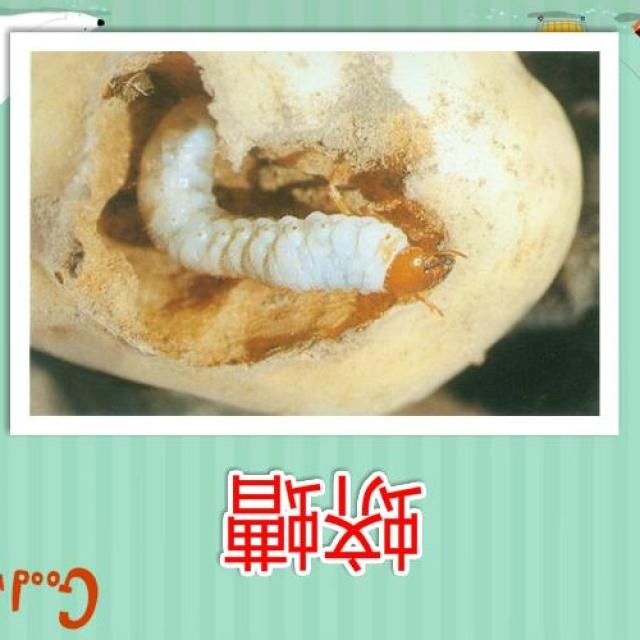grub: (131, 100, 451, 297)
